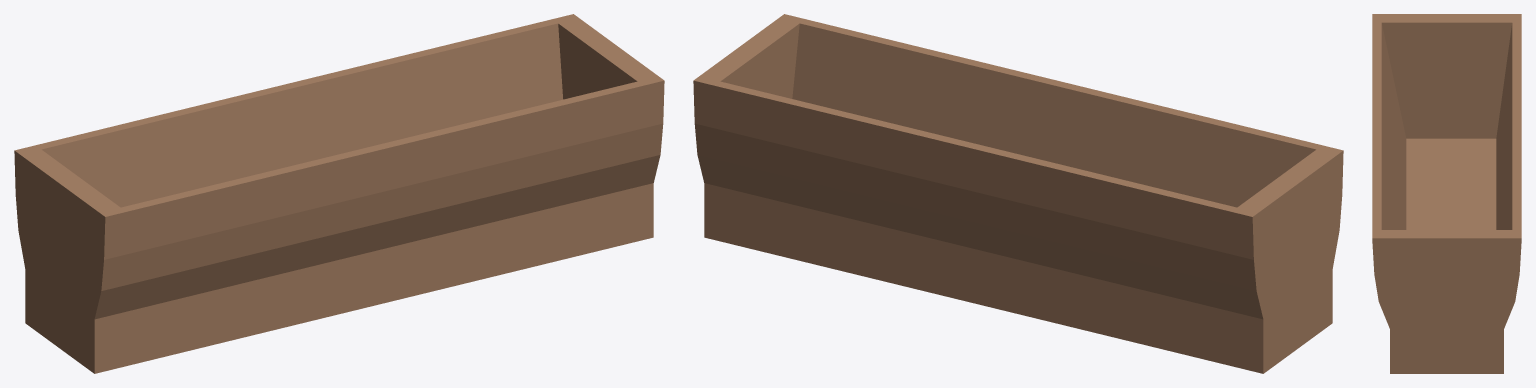
File: trough.fbx
3 views of the same model, side by side, from view 1: azimuth 30°, elevation 25°; view 2: azimuth 150°, elevation 25°; view 3: azimuth 270°, elevation 25° (orthographic). The views are drawn at different scales.
Parts seen in each view (by area): view 1: Cube; view 2: Cube; view 3: Cube.
Boxes of the visible parts, x1,y1,x2,y2 form: Cube: [14, 14, 664, 373]; Cube: [693, 14, 1343, 373]; Cube: [1372, 14, 1521, 373].
Bounding box in the file's own units: 94.35 × 26.58 × 26.58.
